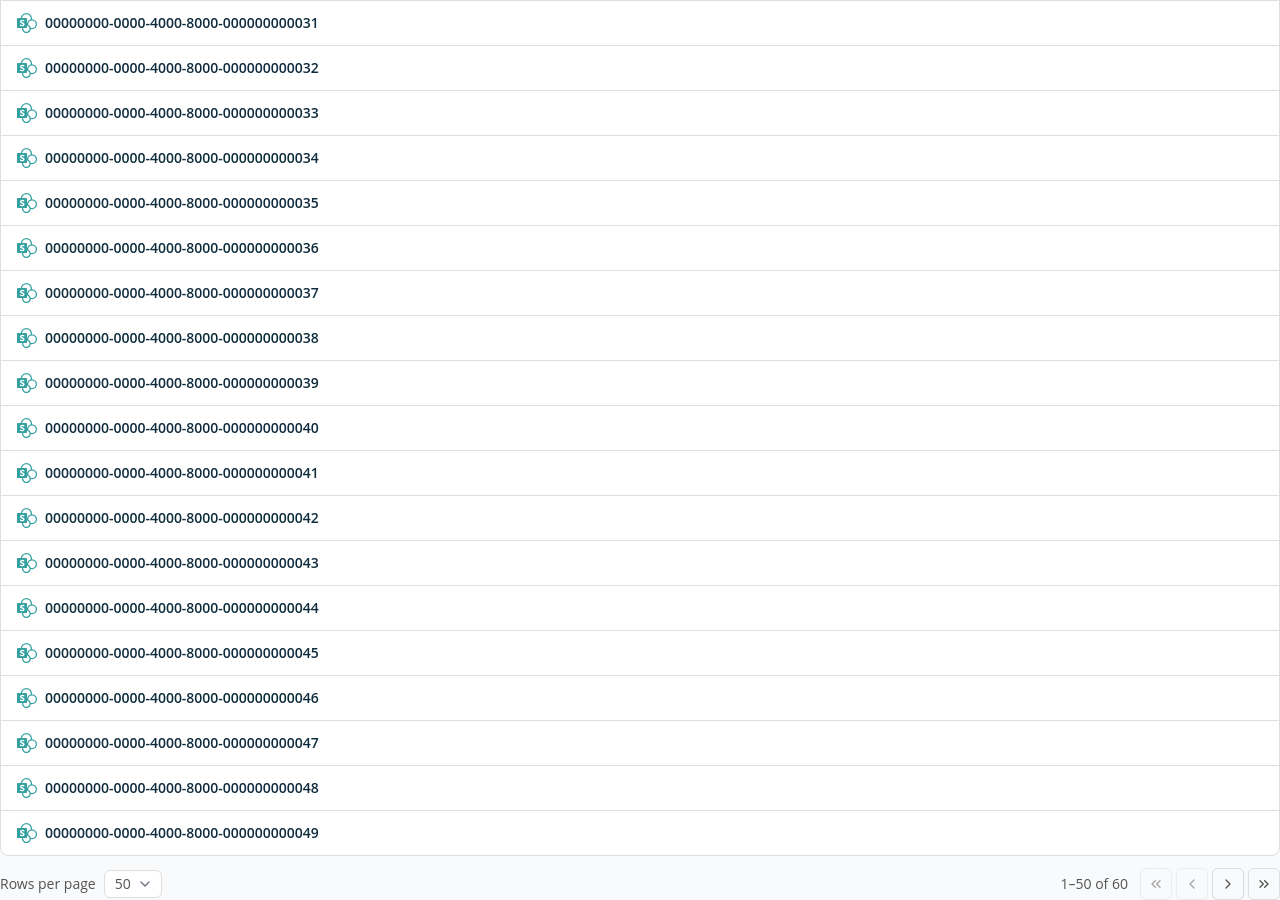
SiteTable › finds a site by the name resolved for a page the user has already viewed
(page scrolled)
Step 1. Click the button named "Next page" → (1228, 884), box x1=1212 y1=868 x2=1244 y2=899
(page scrolled)
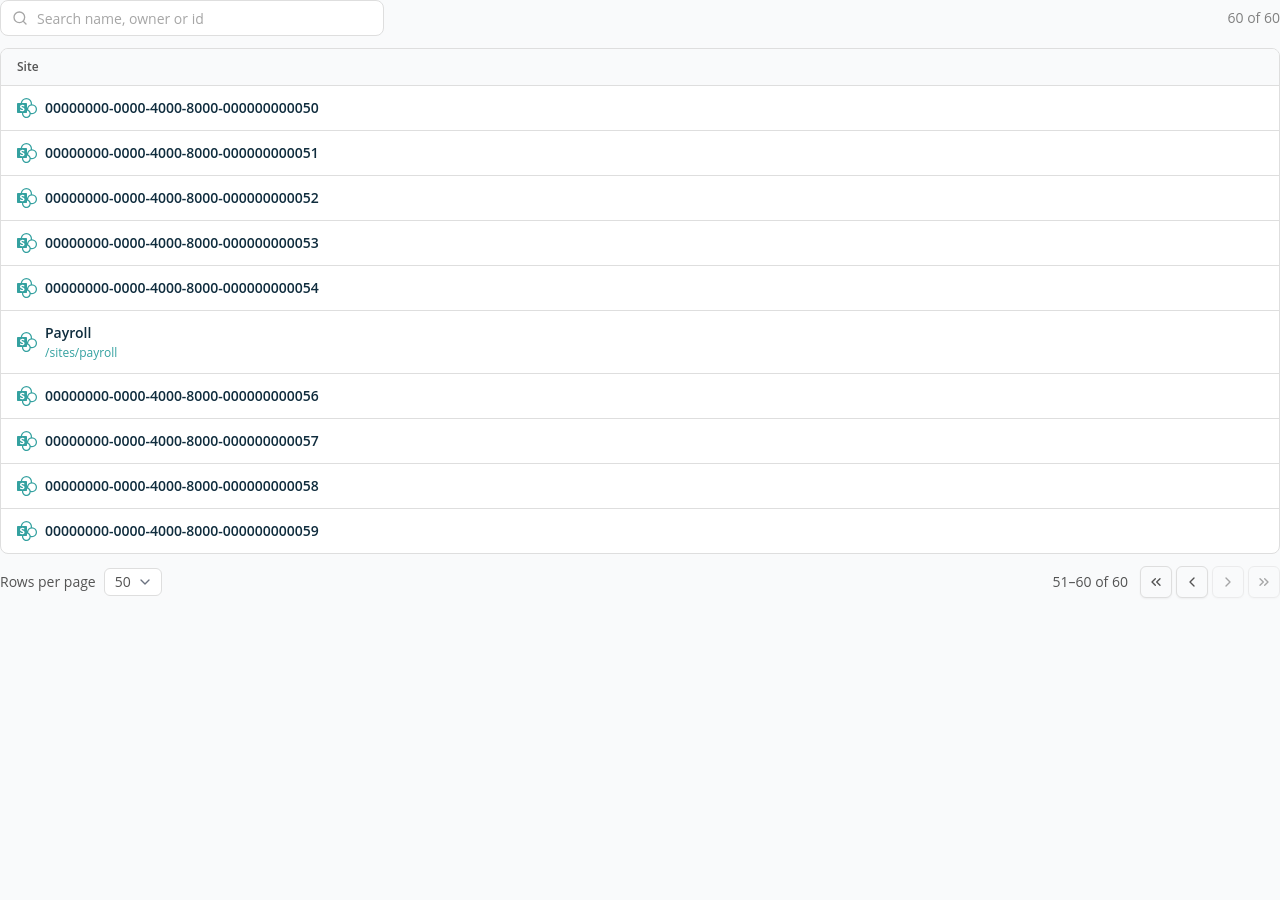
Check: the text titled "Payroll" is shown, box x1=45 y1=323 x2=91 y2=342
Step 2. Type "payroll" into the search field → (192, 18), box x1=0 y1=0 x2=384 y2=36
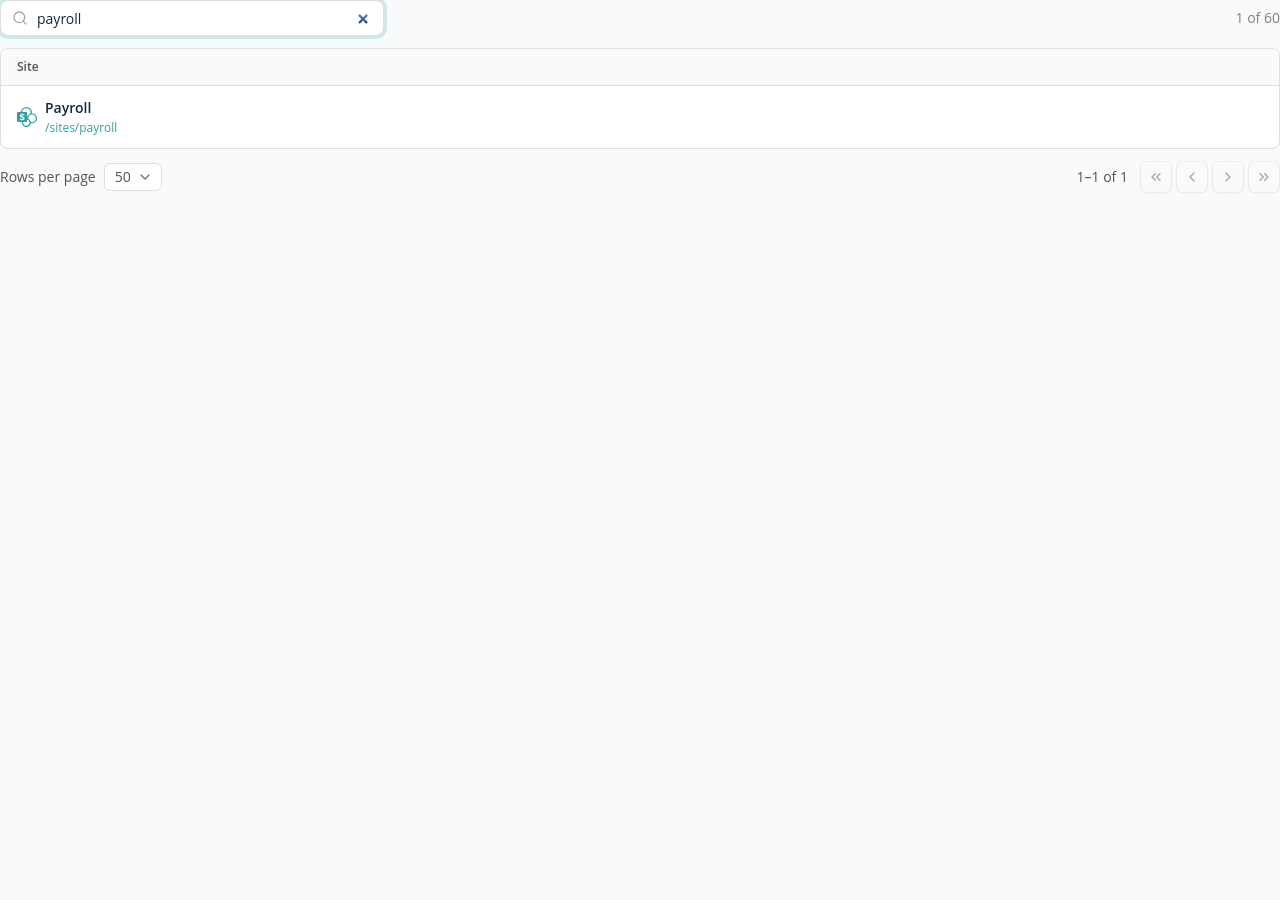
Check: the text titled "Payroll" is shown, box x1=45 y1=98 x2=91 y2=117
Check: the link "/sites/payroll" is shown, box x1=45 y1=119 x2=117 y2=136
Check: the text "1 of 60" is shown, box x1=1236 y1=8 x2=1279 y2=28
